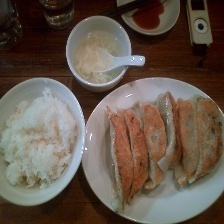rice: (1, 85, 79, 190)
